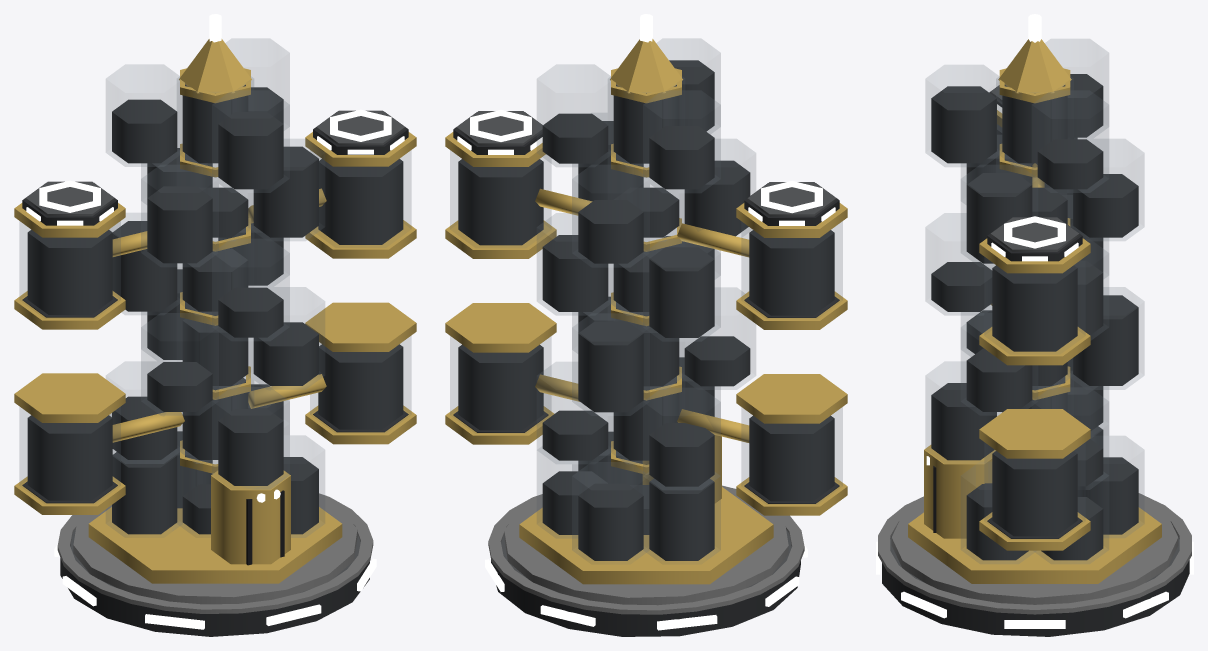
Rendered from Skin_Hive_T3.glb.
3 renders of one model, left to right at view 1: azimuth 30°, elevation 25°; view 2: azimuth 150°, elevation 25°; view 3: azimuth 270°, elevation 25°, orthographic.
Parts seen in each view (by area): view 1: Skin_Hive_T3; view 2: Skin_Hive_T3; view 3: Skin_Hive_T3.
Part boxes in pixels (x1,y1,x2,y2): Skin_Hive_T3: [14, 14, 416, 636]; Skin_Hive_T3: [445, 14, 847, 636]; Skin_Hive_T3: [876, 14, 1193, 636].
Bounding box in the file's own units: 5.28 × 7.48 × 3.88.
